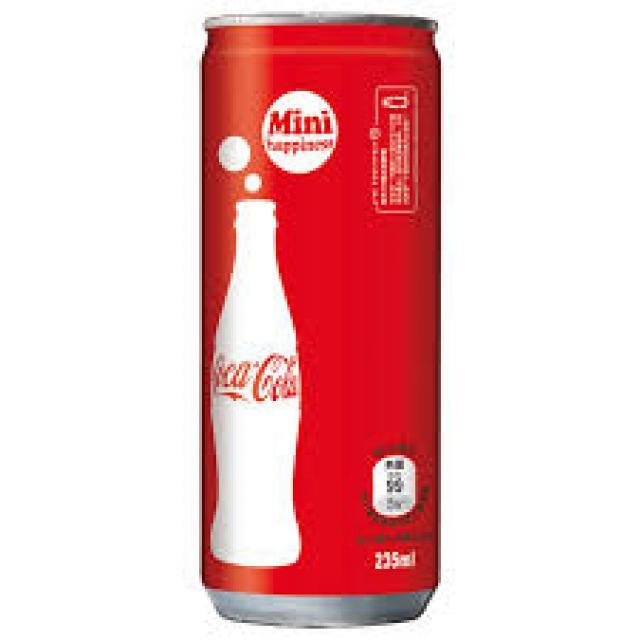recyclable: (195, 12, 440, 629)
